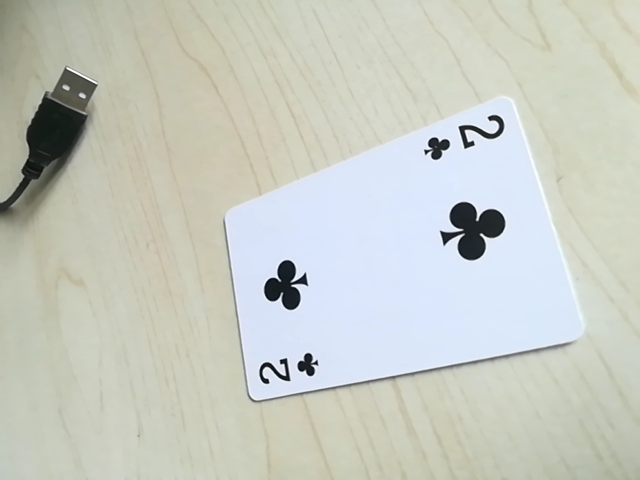mh 2: (418, 110, 512, 164), (248, 348, 323, 397)
